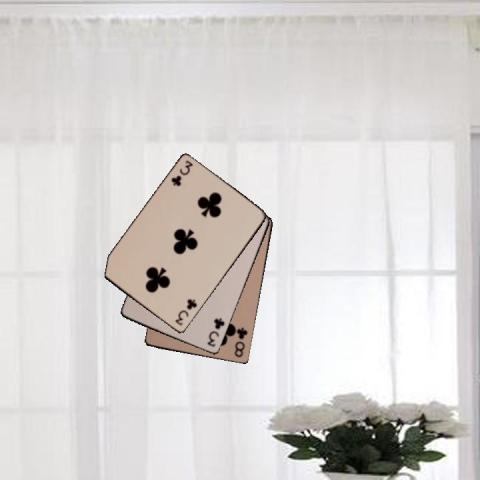3c: (172, 296, 199, 327), (168, 158, 195, 187), (205, 315, 226, 349)
8c: (232, 324, 250, 358)
